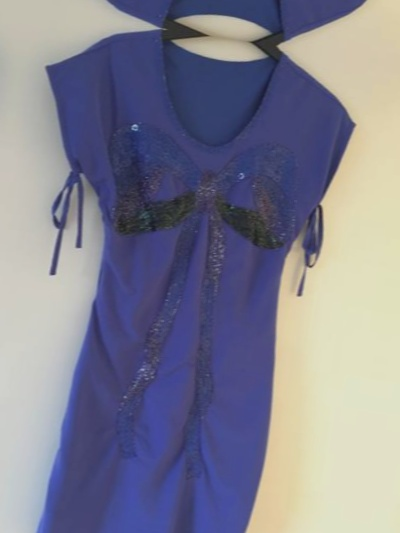Dress: (0, 18, 386, 533), (68, 0, 400, 58), (387, 77, 400, 533)
